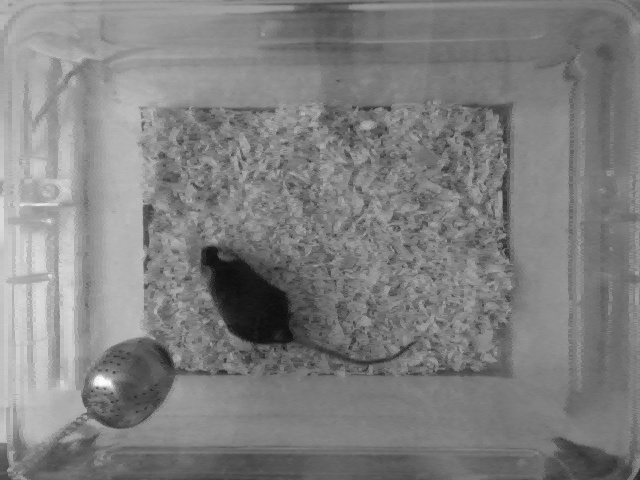mice: (195, 243, 422, 368)
